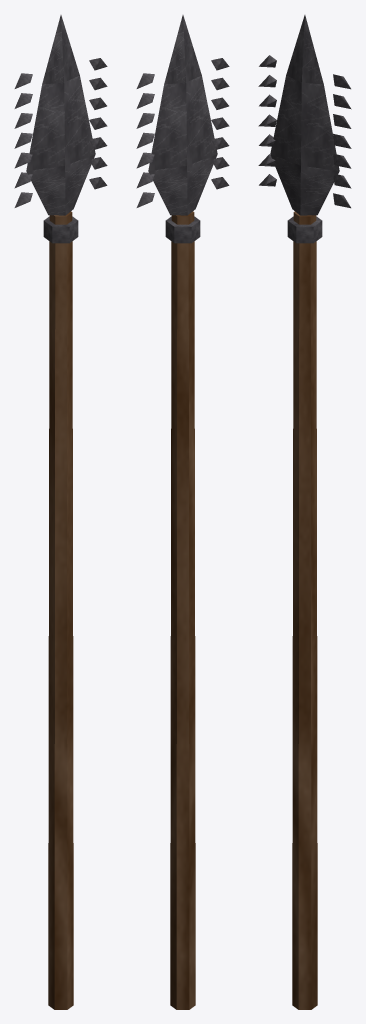
Rendered from SerratedSpear.fbx.
3 renders of one model, left to right at view 1: azimuth 30°, elevation 25°; view 2: azimuth 210°, elevation 25°; view 3: azimuth 330°, elevation 25°, orthographic.
Visible parts, largest first — view 1: Handle, Head; view 2: Handle, Head; view 3: Handle, Head.
Boxes of the visible parts, box(x1,y1,x2,y2) form: Handle: box(43, 211, 78, 1009); Head: box(14, 15, 107, 215); Handle: box(165, 211, 200, 1009); Head: box(136, 15, 229, 215); Handle: box(287, 211, 322, 1009); Head: box(258, 15, 351, 215).
Bounding box in the file's own units: 59.03 × 600 × 18.9.
1 material, 1 textured.
